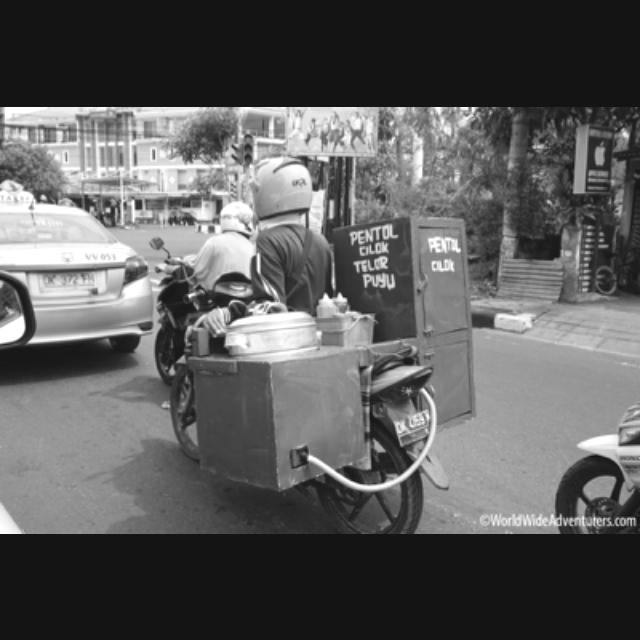With Helmet: (240, 152, 322, 226)
